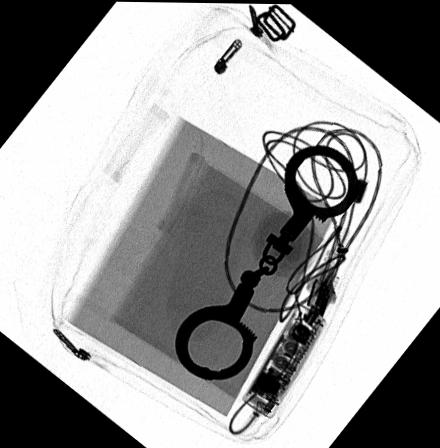HandCuffs: (173, 144, 368, 379)
